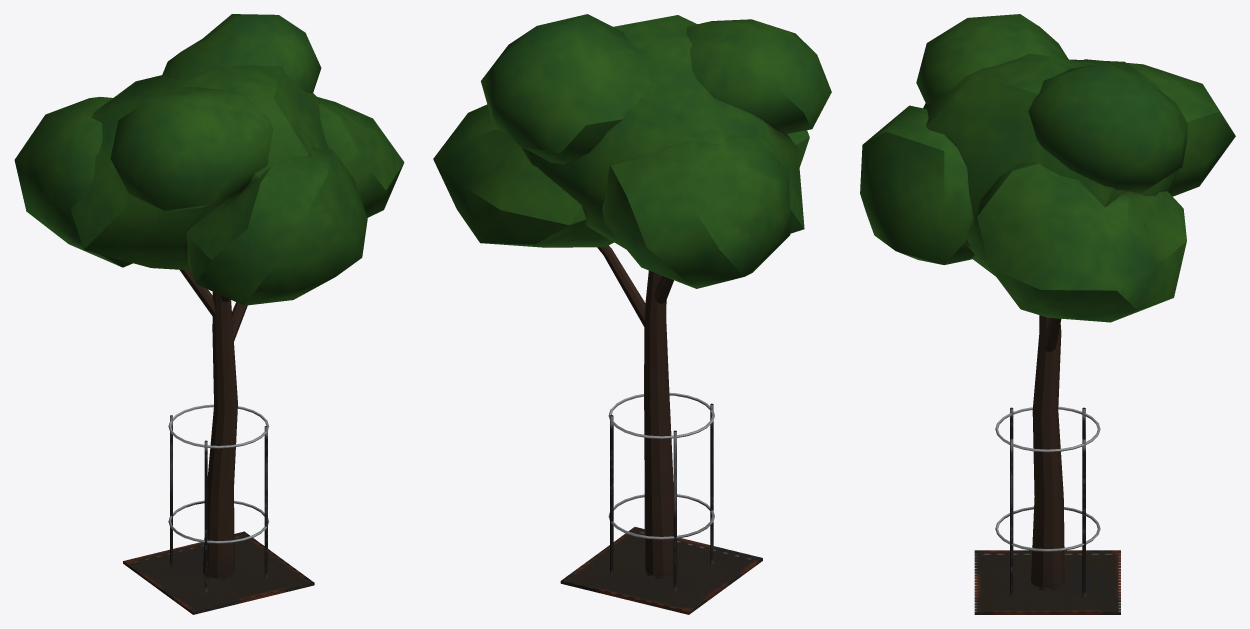
File: street_tree.glb
3 renders of one model, left to right at view 1: azimuth 30°, elevation 25°; view 2: azimuth 150°, elevation 25°; view 3: azimuth 270°, elevation 25°, orthographic. The views are drawn at different scales.
Parts seen in each view (by area): view 1: street_tree; view 2: street_tree; view 3: street_tree.
Part boxes in pixels (x1=…): street_tree: x1=14, y1=14, x2=404, y2=614; street_tree: x1=433, y1=14, x2=831, y2=614; street_tree: x1=860, y1=14, x2=1235, y2=614.
Size of what is drawn, in the model's own units: 3.21 by 4.94 by 3.08.
Materials: 1 (1 with a texture image).
